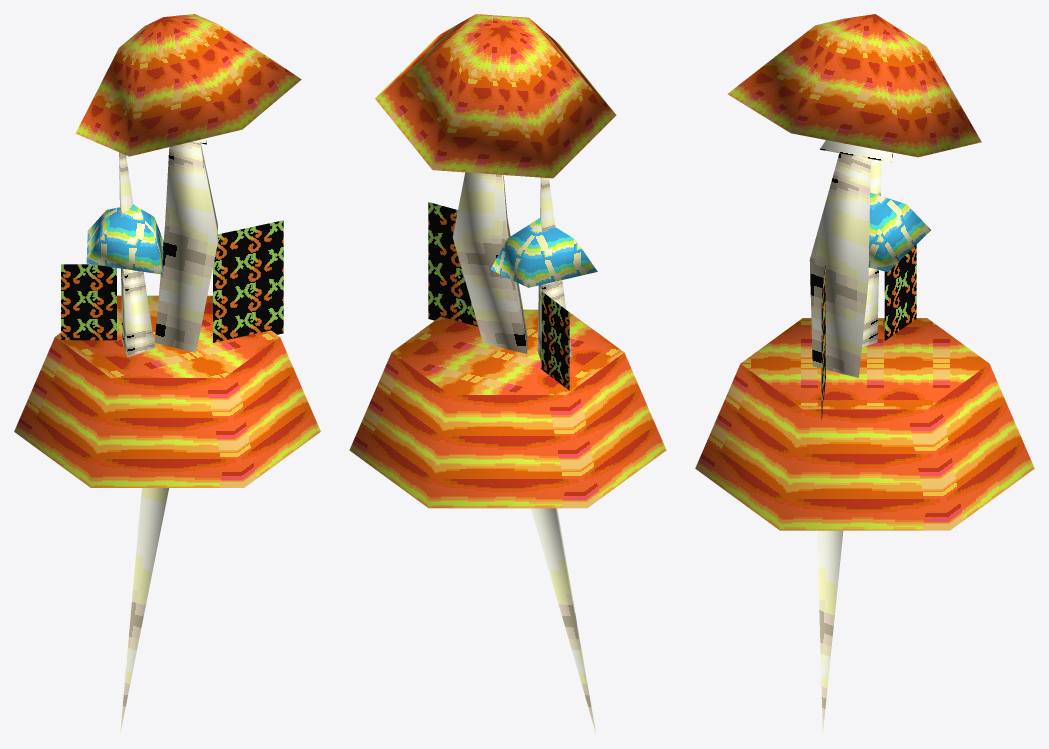
The picture shows the model from 3 angles, left to right: view 1: azimuth 30°, elevation 25°; view 2: azimuth 150°, elevation 25°; view 3: azimuth 270°, elevation 25°; orthographic projection. The views are drawn at different scales.
Visible parts, largest first — view 1: 3437kg_sh2_19; view 2: 3437kg_sh2_19; view 3: 3437kg_sh2_19.
Boxes of the visible parts, bbox=[...] form: 3437kg_sh2_19: bbox=[14, 14, 320, 732]; 3437kg_sh2_19: bbox=[349, 14, 666, 732]; 3437kg_sh2_19: bbox=[695, 14, 1034, 734].
Size of the model in its own units: 0.7544 by 2.14 by 0.8711.
4 materials, 4 textured.
